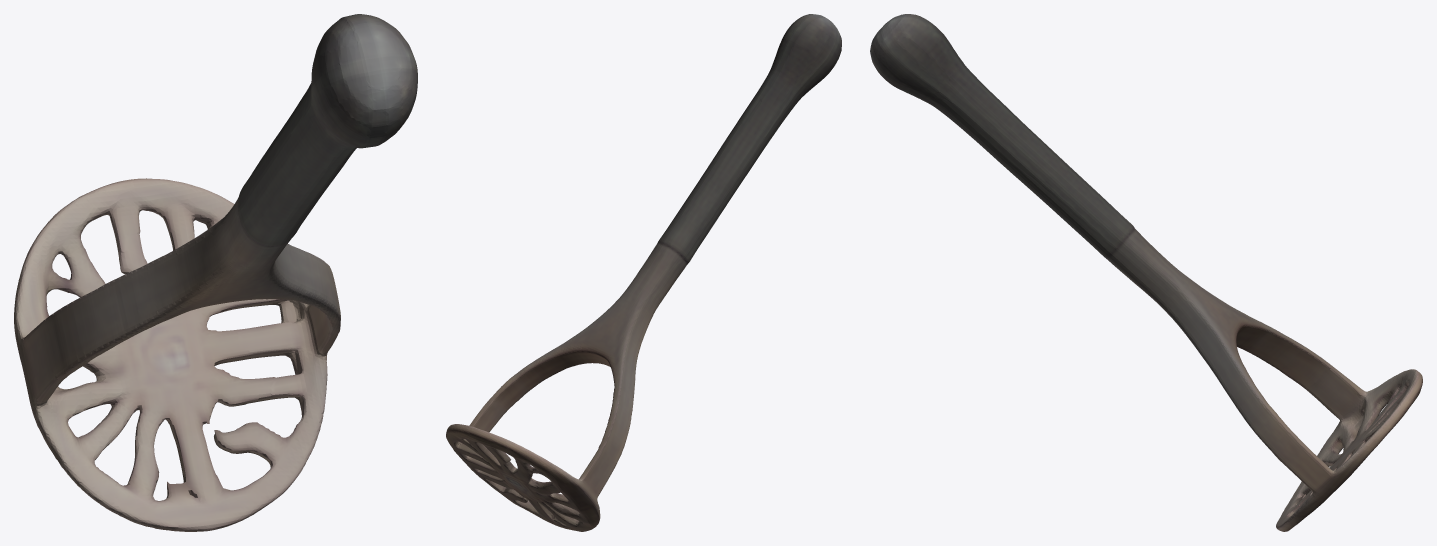
The model's file is frame_0056_source_000056_object.glb.
3 renders of one model, left to right at view 1: azimuth 30°, elevation 25°; view 2: azimuth 150°, elevation 25°; view 3: azimuth 270°, elevation 25°, orthographic. The views are drawn at different scales.
Visible parts, largest first — view 1: world; view 2: world; view 3: world.
Part boxes in pixels (box(x1,y1,x2,y2)): world: box(14, 14, 417, 531); world: box(446, 14, 841, 531); world: box(870, 14, 1422, 531).
Bounding box in the file's own units: 0.0955 × 0.1995 × 0.2179.
